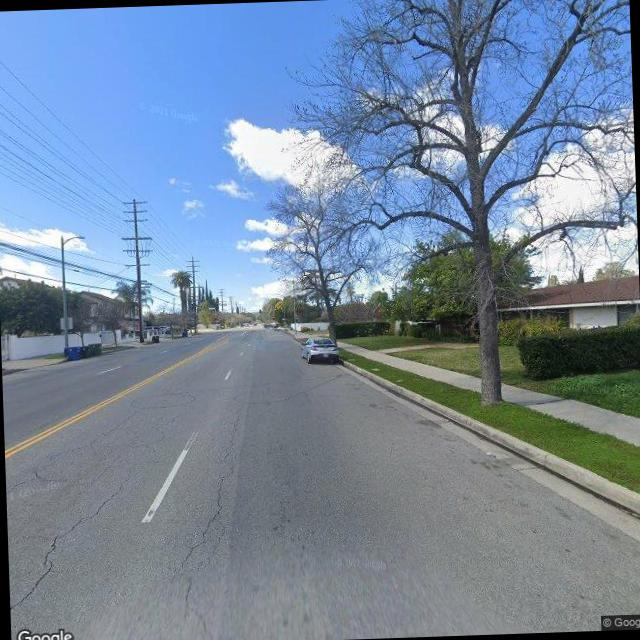crack: (6, 416, 180, 603), (156, 390, 252, 628), (5, 393, 150, 488)
